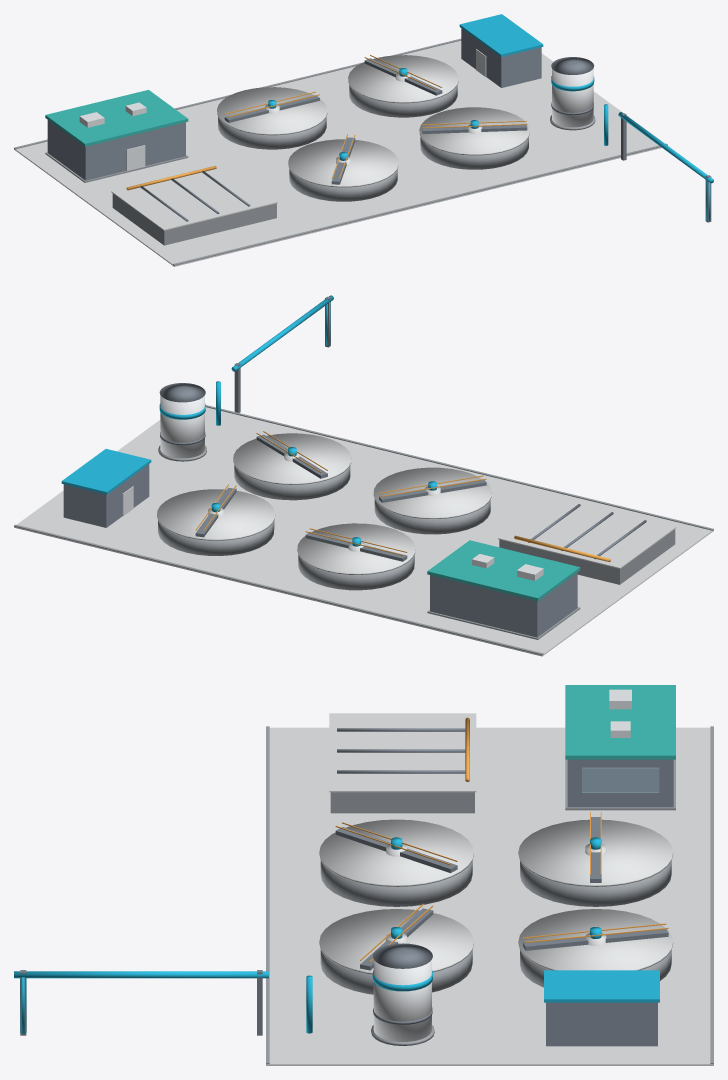
File: k_water_treatment.glb
The picture shows the model from 3 angles, top to bottom: view 1: azimuth 30°, elevation 25°; view 2: azimuth 150°, elevation 25°; view 3: azimuth 270°, elevation 25°; orthographic projection. The views are drawn at different scales.
Parts seen in each view (by area): view 1: K_Pad, K_Basin_Rim, K_MBR_Body, K_MBR_Trim, K_Clar_Rim_1, K_Clar_Rim_2, K_Clar_Rim_0, K_Clar_Rim_3, K_Basin_Wall, K_Pump_Body, K_Clear_Tower, K_Pump_Trim (+13 smaller); view 2: K_Pad, K_Basin_Rim, K_MBR_Body, K_MBR_Trim, K_Clar_Rim_2, K_Clar_Rim_3, K_Clar_Rim_0, K_Clar_Rim_1, K_Pump_Body, K_Basin_Wall, K_Clear_Tower, K_Pump_Trim (+10 smaller); view 3: K_Pad, K_Basin_Rim, K_MBR_Trim, K_Clar_Rim_0, K_Clar_Rim_1, K_Clar_Rim_2, K_Clar_Rim_3, K_MBR_Body, K_Pump_Body, K_Clear_Tower, K_Pump_Trim, K_Basin_Wall (+13 smaller).
Boxes of the visible parts, x1,y1,x2,y2 form: K_Pad: [14, 40, 665, 266]; K_Basin_Rim: [111, 163, 277, 230]; K_MBR_Body: [47, 120, 185, 180]; K_MBR_Trim: [45, 90, 188, 146]; K_Clar_Rim_1: [288, 139, 398, 187]; K_Clar_Rim_2: [348, 55, 458, 103]; K_Clar_Rim_0: [217, 87, 327, 135]; K_Clar_Rim_3: [419, 107, 529, 155]; K_Basin_Wall: [112, 193, 276, 245]; K_Pump_Body: [461, 28, 541, 87]; K_Clear_Tower: [552, 68, 593, 127]; K_Pump_Trim: [459, 14, 543, 56]; K_Pad: [14, 407, 713, 656]; K_Basin_Rim: [498, 497, 676, 568]; K_MBR_Body: [430, 572, 577, 637]; K_MBR_Trim: [427, 540, 580, 601]; K_Clar_Rim_2: [157, 489, 275, 540]; K_Clar_Rim_3: [233, 433, 351, 484]; K_Clar_Rim_0: [297, 523, 415, 574]; K_Clar_Rim_1: [373, 467, 491, 519]; K_Pump_Body: [63, 464, 149, 527]; K_Basin_Wall: [499, 529, 675, 584]; K_Clear_Tower: [160, 395, 204, 458]; K_Pump_Trim: [61, 449, 151, 494]; K_Pad: [266, 727, 713, 1065]; K_Basin_Rim: [329, 713, 476, 792]; K_MBR_Trim: [565, 685, 675, 759]; K_Clar_Rim_0: [518, 819, 673, 886]; K_Clar_Rim_1: [319, 819, 473, 886]; K_Clar_Rim_2: [518, 909, 673, 970]; K_Clar_Rim_3: [319, 909, 473, 974]; K_MBR_Body: [567, 759, 673, 807]; K_Pump_Body: [546, 1002, 657, 1046]; K_Clear_Tower: [373, 959, 431, 1041]; K_Pump_Trim: [544, 970, 659, 1002]; K_Basin_Wall: [330, 792, 474, 813].
Size of the model in its own units: 64 by 7.36 by 56.25.
